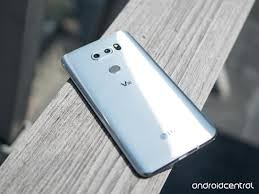lg: (57, 29, 221, 182)
